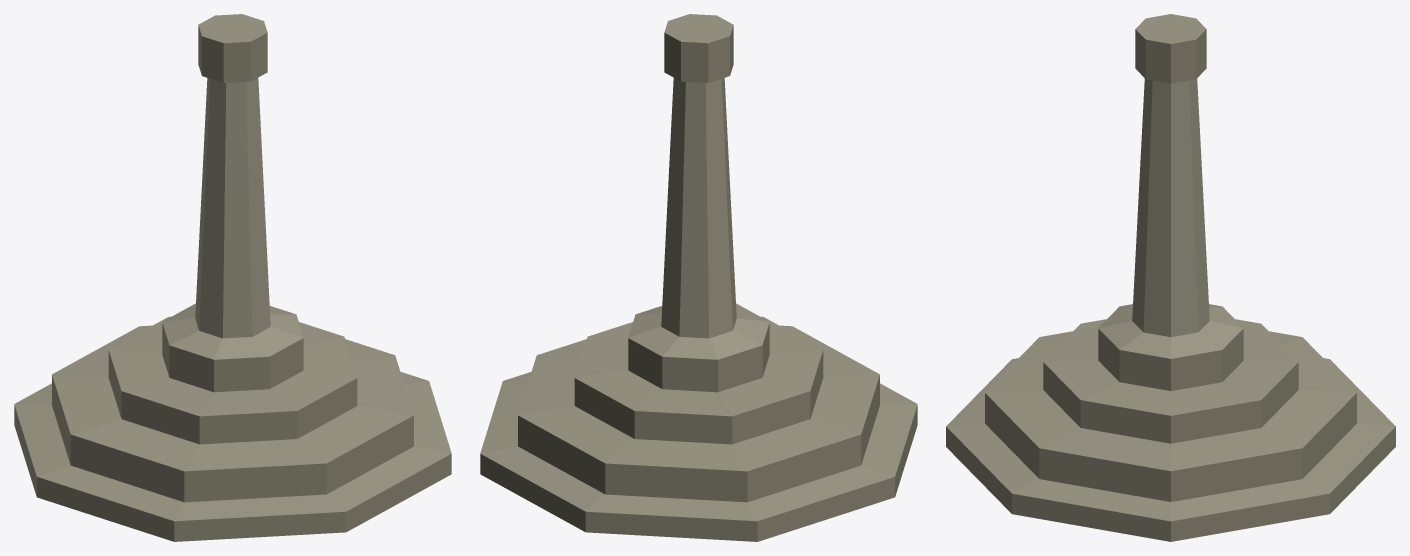
File: market-cross.glb
3 renders of one model, left to right at view 1: azimuth 30°, elevation 25°; view 2: azimuth 150°, elevation 25°; view 3: azimuth 270°, elevation 25°, orthographic.
Visible parts, largest first — view 1: Ambleside Market Cross; view 2: Ambleside Market Cross; view 3: Ambleside Market Cross.
Boxes of the visible parts, <box> form: Ambleside Market Cross: <box>14,14,451,541</box>; Ambleside Market Cross: <box>480,14,917,541</box>; Ambleside Market Cross: <box>946,14,1395,541</box>.
Size of the model in its own units: 2.78 by 2.85 by 2.78.
